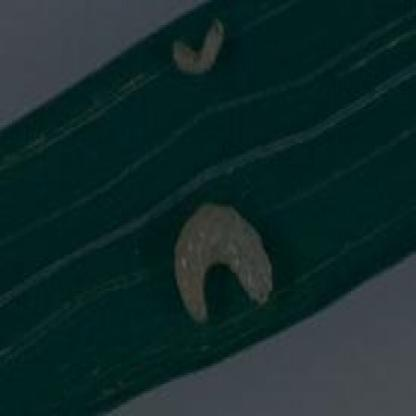whorl-maggot: (172, 198, 280, 328), (166, 13, 238, 89)
